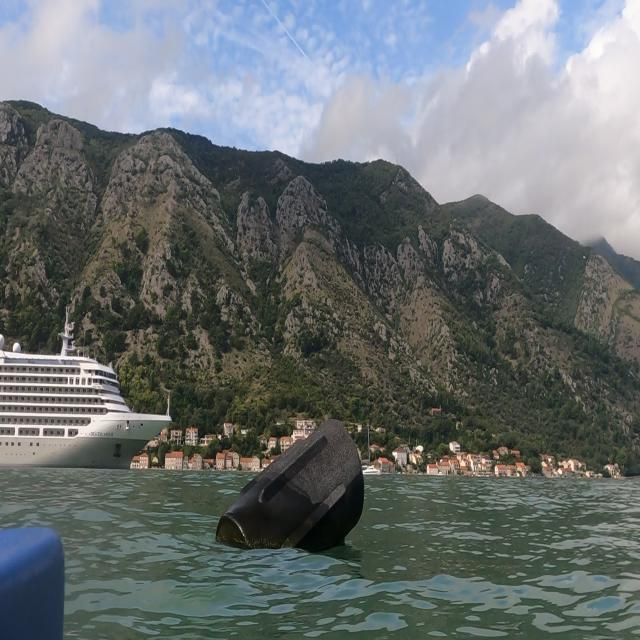boat: (1, 304, 174, 471)
buoy: (213, 415, 367, 559)
